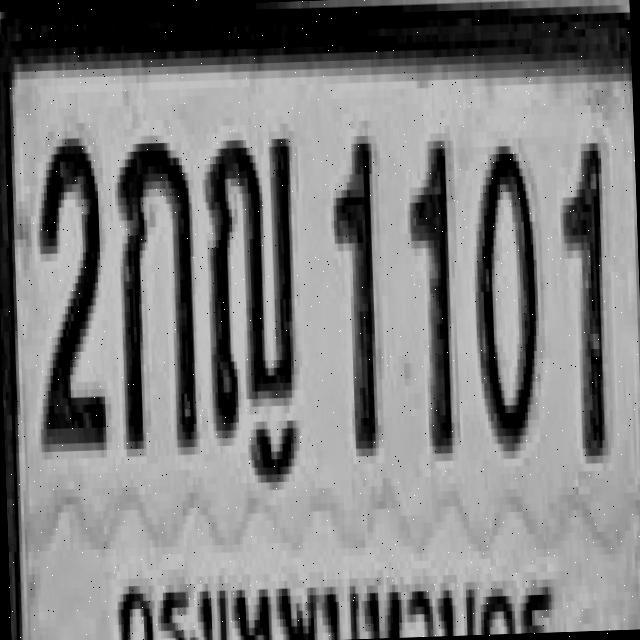0: (470, 138, 542, 452)
1: (328, 132, 382, 453), (559, 136, 610, 457), (406, 132, 456, 454)
10GorGai: (114, 134, 198, 448)
2: (32, 133, 108, 448)
22YorYing: (202, 130, 302, 438)
